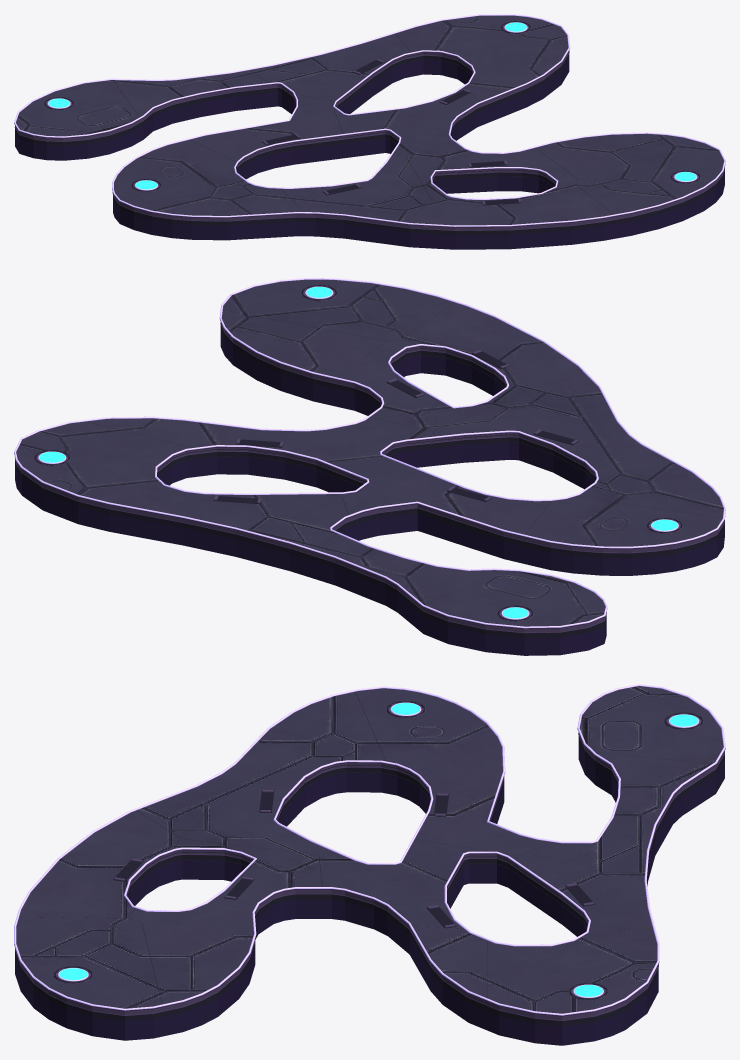
Rendered from momentum_circuit_foreground_v9.glb.
The picture shows the model from 3 angles, top to bottom: view 1: azimuth 30°, elevation 25°; view 2: azimuth 150°, elevation 25°; view 3: azimuth 270°, elevation 25°; orthographic projection. The views are drawn at different scales.
Parts seen in each view (by area): view 1: Foreground_V9DeckPanelA, Foreground_V9DeckPanelB, Foreground_V9SidewallLow, Foreground_V9InsetCeramic, Foreground_V9SidewallHigh, Foreground_StaticRimGlow, Foreground_StabilizerCyanInset, Foreground_V9LavenderSeamInlay; view 2: Foreground_V9DeckPanelA, Foreground_V9DeckPanelB, Foreground_V9SidewallLow, Foreground_V9InsetCeramic, Foreground_V9SidewallHigh, Foreground_StaticRimGlow, Foreground_StabilizerCyanInset, Foreground_V9LavenderSeamInlay; view 3: Foreground_V9DeckPanelA, Foreground_V9DeckPanelB, Foreground_V9SidewallLow, Foreground_V9InsetCeramic, Foreground_StaticRimGlow, Foreground_V9SidewallHigh, Foreground_StabilizerCyanInset, Foreground_V9LavenderSeamInlay.
Boxes of the visible parts, box(x1,y1,x2,y2) form: Foreground_V9DeckPanelA: box(16, 33, 613, 225); Foreground_V9DeckPanelB: box(113, 15, 723, 222); Foreground_V9SidewallLow: box(15, 57, 724, 249); Foreground_V9InsetCeramic: box(15, 21, 724, 234); Foreground_V9SidewallHigh: box(14, 21, 725, 230); Foreground_StaticRimGlow: box(14, 14, 725, 226); Foreground_StabilizerCyanInset: box(48, 22, 696, 189); Foreground_V9LavenderSeamInlay: box(114, 38, 611, 218); Foreground_V9DeckPanelA: box(140, 302, 723, 626); Foreground_V9DeckPanelB: box(16, 279, 635, 604); Foreground_V9SidewallLow: box(15, 329, 724, 655); Foreground_V9InsetCeramic: box(15, 285, 724, 638); Foreground_V9SidewallHigh: box(14, 279, 725, 633); Foreground_StaticRimGlow: box(14, 278, 725, 628); Foreground_StabilizerCyanInset: box(39, 287, 677, 618); Foreground_V9LavenderSeamInlay: box(152, 343, 595, 549); Foreground_V9DeckPanelA: box(19, 686, 723, 930); Foreground_V9DeckPanelB: box(16, 752, 711, 1013); Foreground_V9SidewallLow: box(15, 741, 724, 1045); Foreground_V9InsetCeramic: box(15, 701, 724, 1026); Foreground_StaticRimGlow: box(14, 684, 725, 1015); Foreground_V9SidewallHigh: box(14, 701, 725, 1021); Foreground_StabilizerCyanInset: box(59, 703, 698, 996); Foreground_V9LavenderSeamInlay: box(126, 692, 588, 1003).
Size of the model in its own units: 94.52 by 4.29 by 86.03.
Materials: 9 (2 with a texture image).
